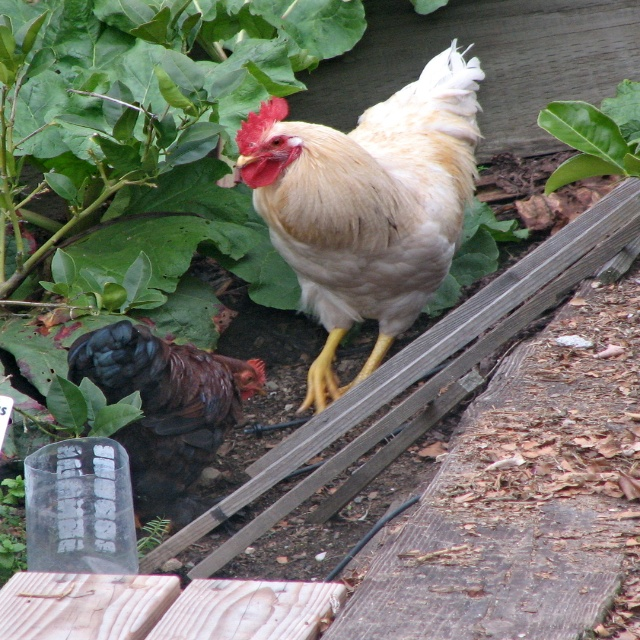Chicken: (225, 50, 497, 394)
